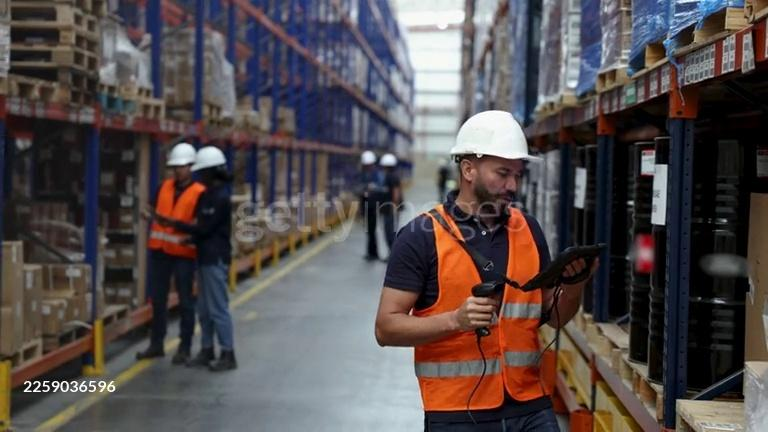helmet: (450, 110, 535, 167), (192, 146, 227, 174), (166, 143, 196, 167), (380, 153, 398, 167), (361, 151, 377, 165)
person: (374, 109, 600, 432), (142, 147, 238, 372), (136, 142, 205, 365), (359, 150, 398, 262)
